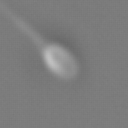normal: (1, 5, 45, 44)
